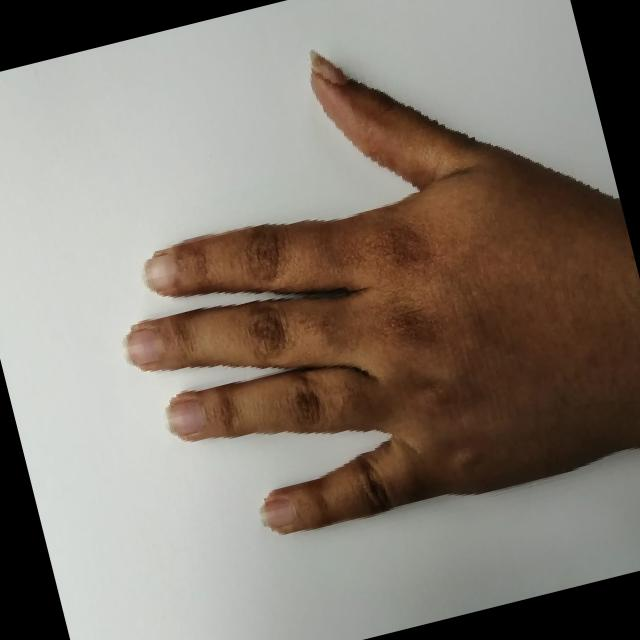Nail: (125, 327, 162, 365), (166, 398, 204, 435), (309, 49, 347, 84), (144, 252, 176, 291), (260, 497, 295, 527)
